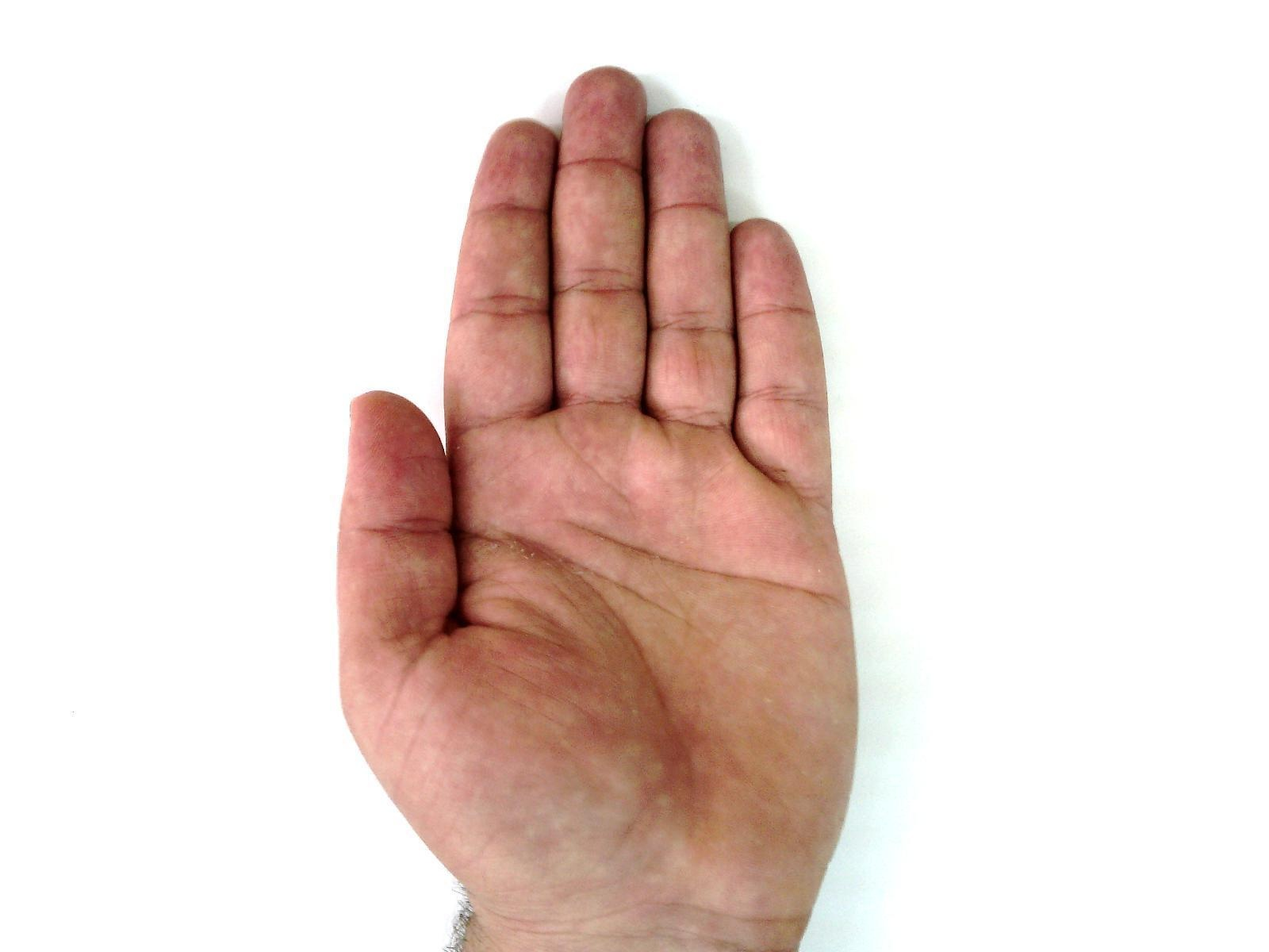open_palm: (333, 65, 864, 930)
